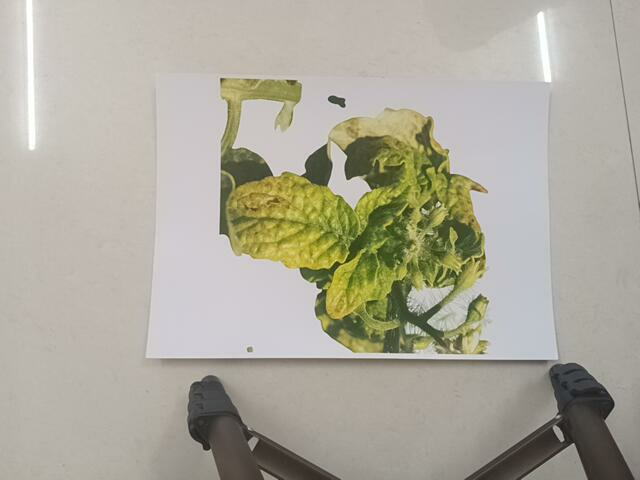Tomamto_Leaf_curl_virus: (210, 74, 517, 363)
